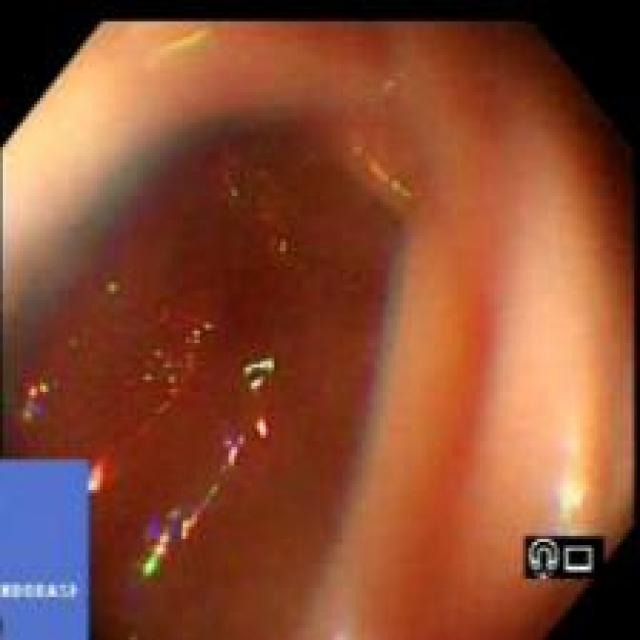color misalignment: (7, 103, 311, 365), (343, 143, 430, 535), (5, 456, 109, 640), (133, 490, 220, 591), (128, 326, 213, 421), (551, 416, 591, 535), (257, 172, 292, 262), (531, 540, 596, 585), (17, 381, 62, 424), (222, 154, 245, 215), (245, 360, 277, 403), (222, 437, 247, 474)
specularity: (257, 416, 274, 445)
